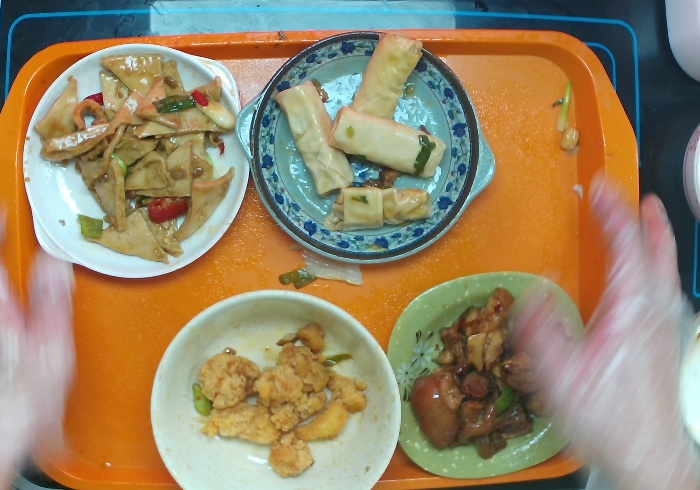NLDX-Bai_Se_Shuang_Er_Die: (20, 45, 250, 280)
NLDX-Bai_Se_Yuan_Wan: (150, 289, 402, 490)
NLDX-Lv_Hua_Fang_Die: (385, 271, 585, 479)
NLDX-Qing_Hua_Shuang_Er_Die: (235, 31, 498, 266)
